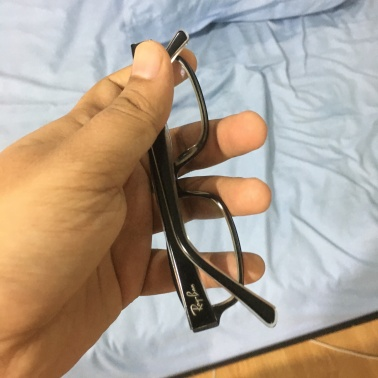glasses: (118, 49, 240, 351)
